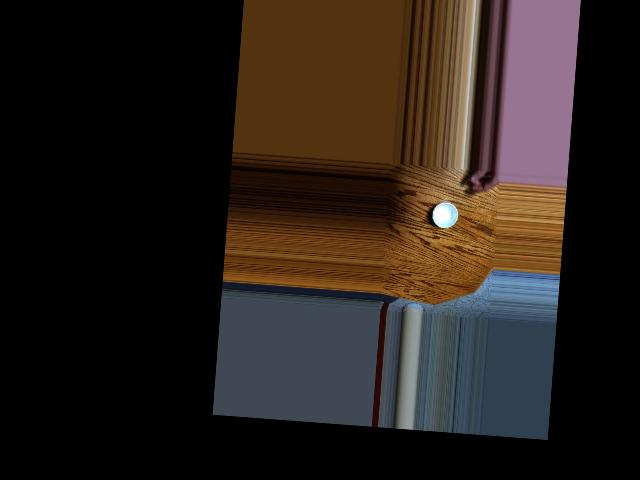cotage: (431, 196, 462, 231)
